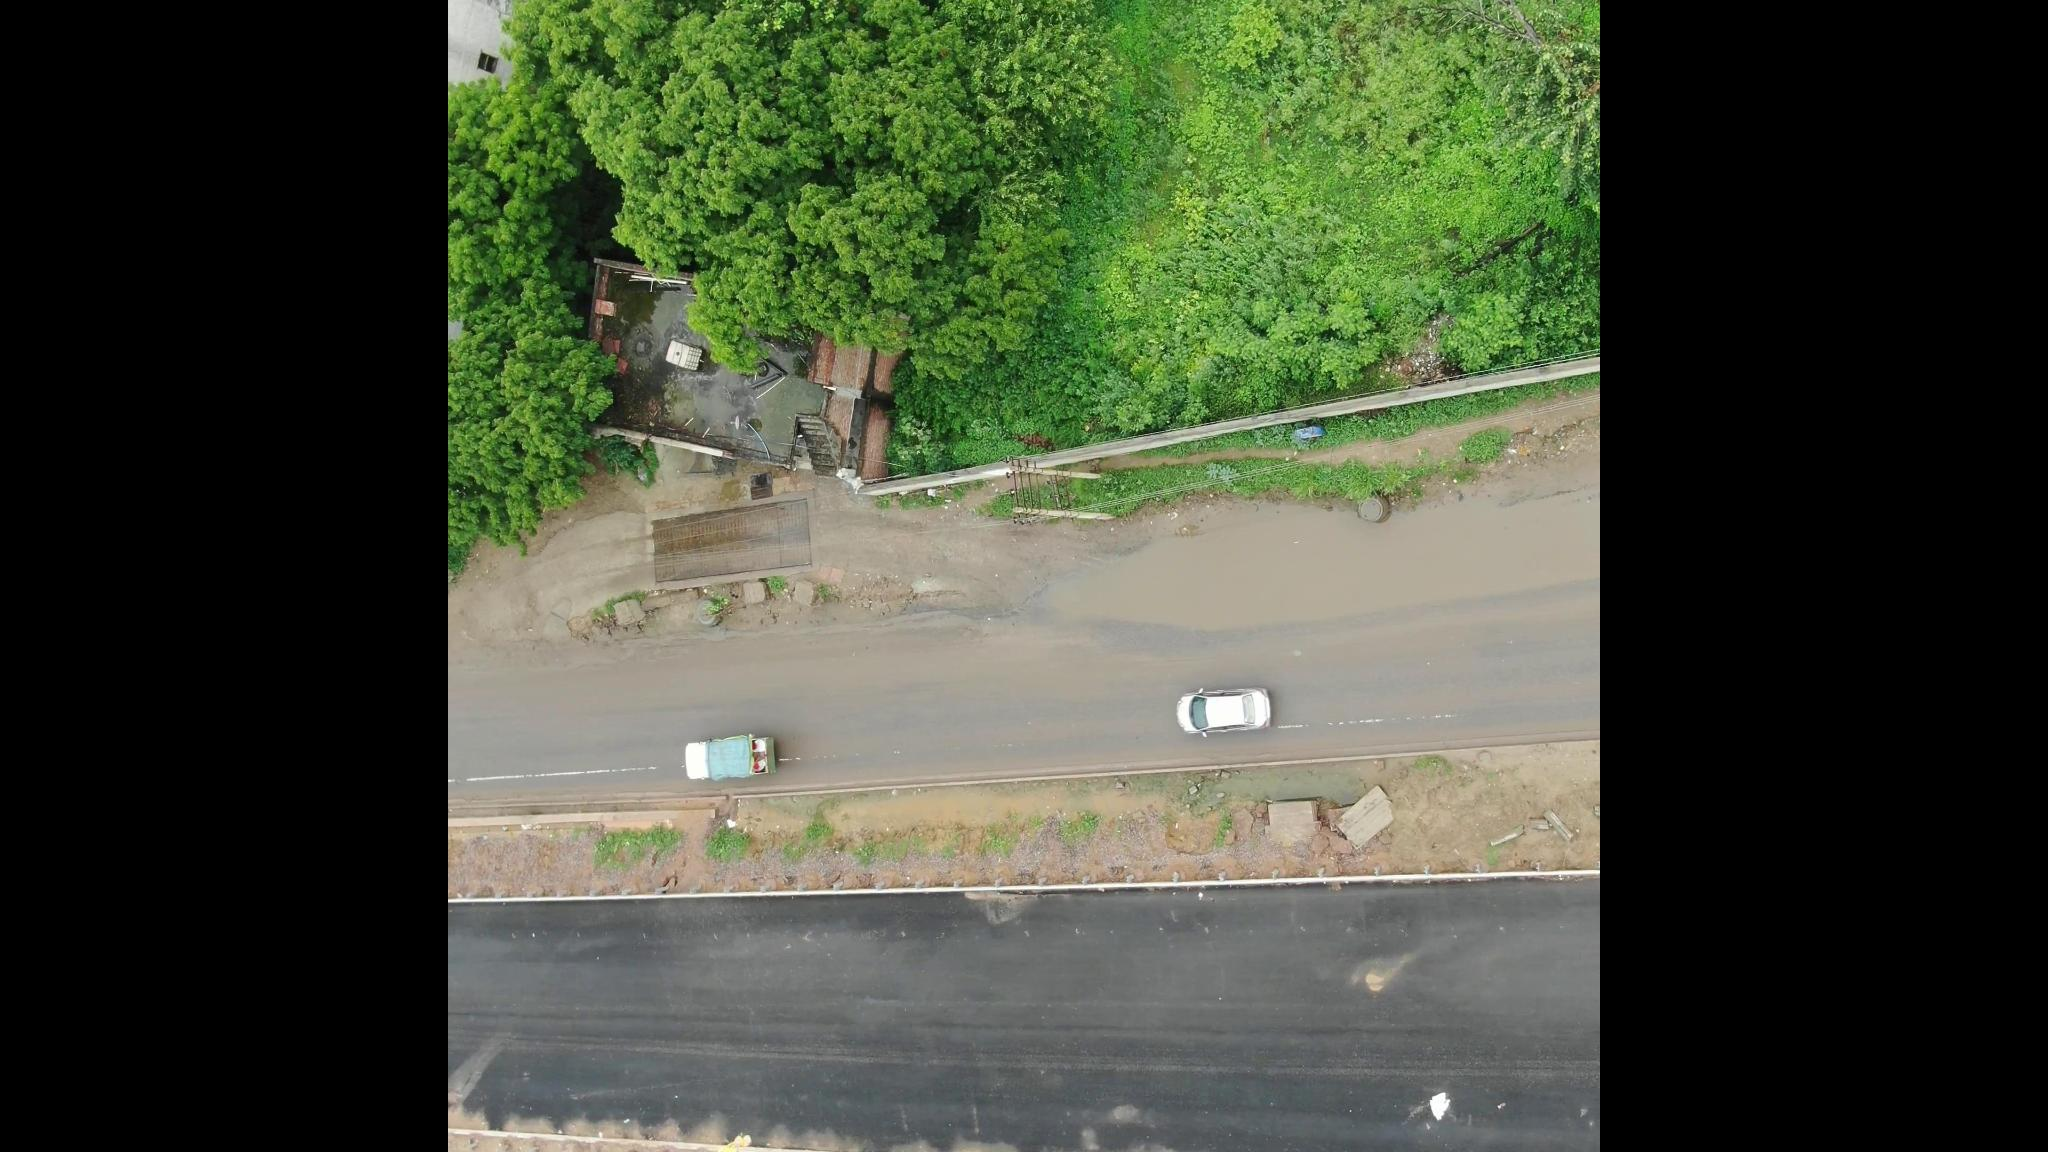Waterlogging: (1031, 468, 1564, 657)
